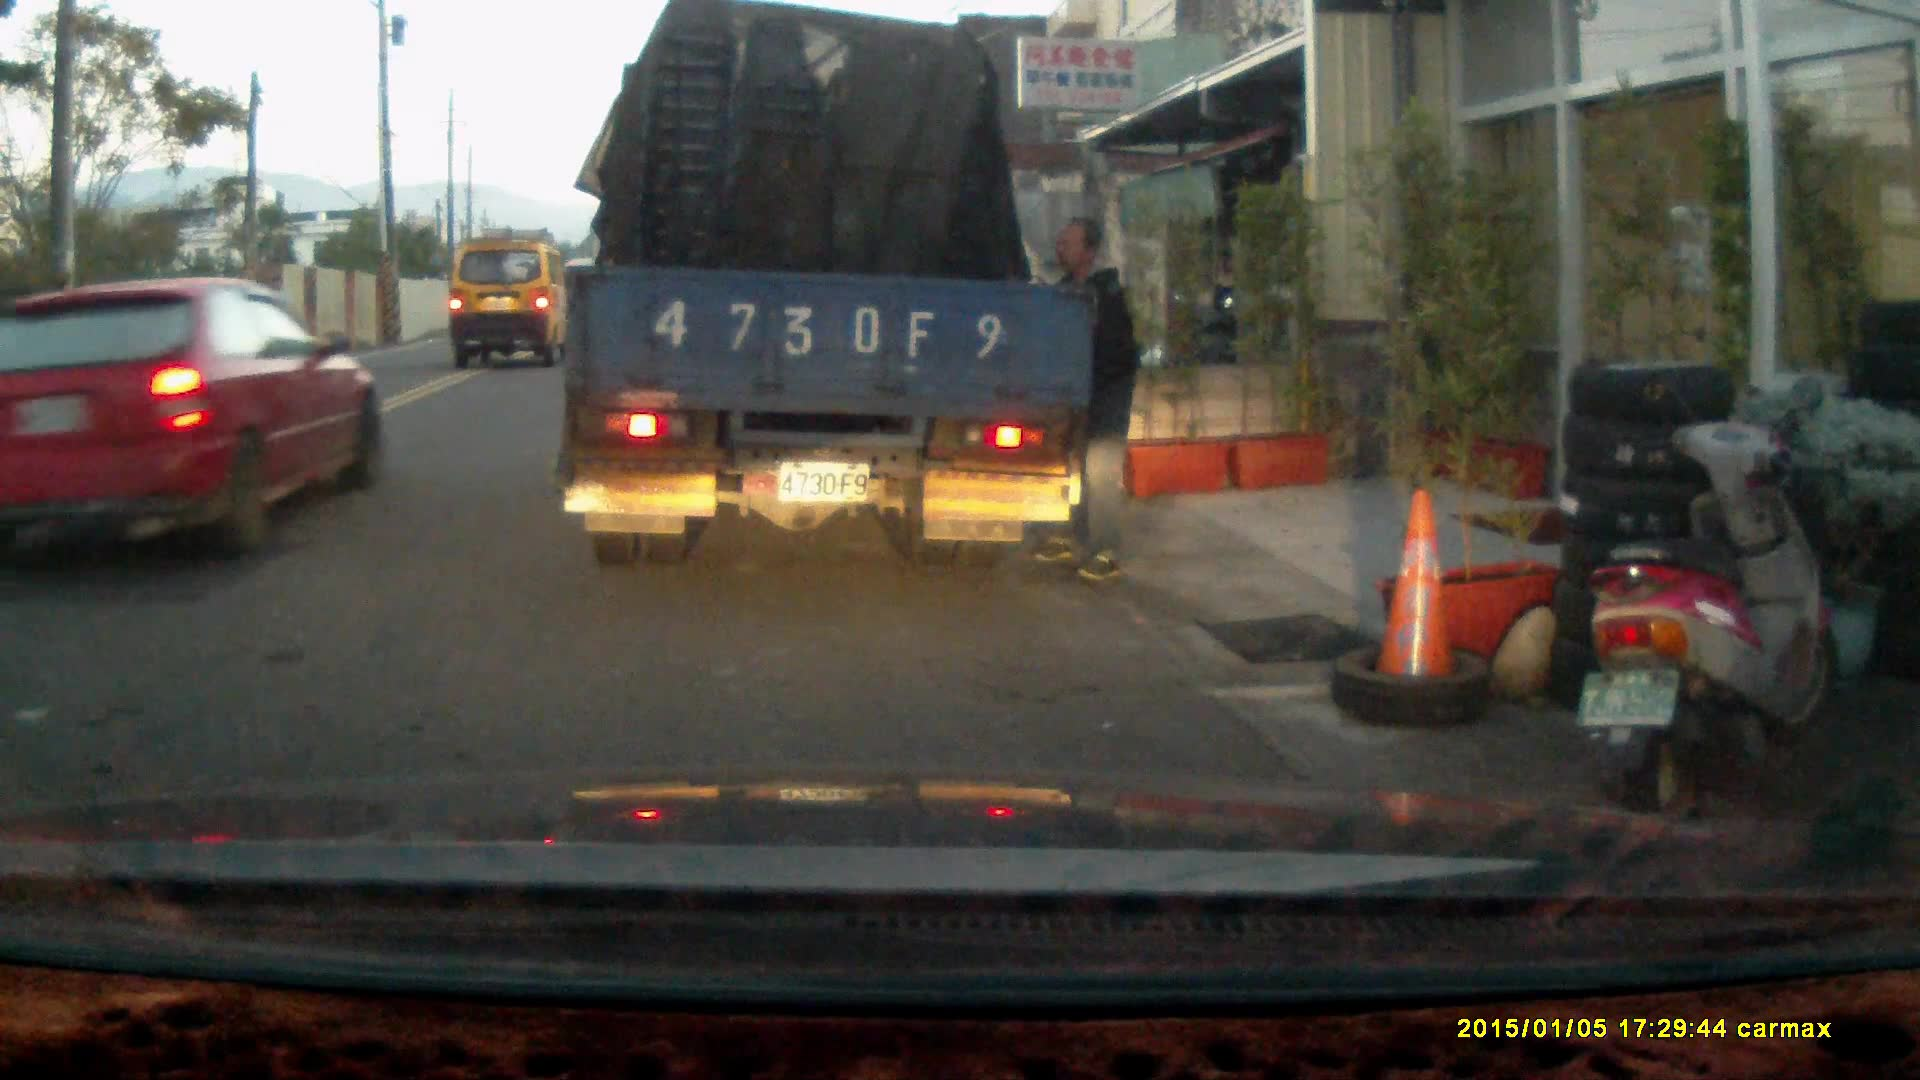pedestrian: (1030, 213, 1141, 581)
vehicle: (565, 23, 1097, 570), (1, 277, 389, 568), (447, 238, 574, 362)
